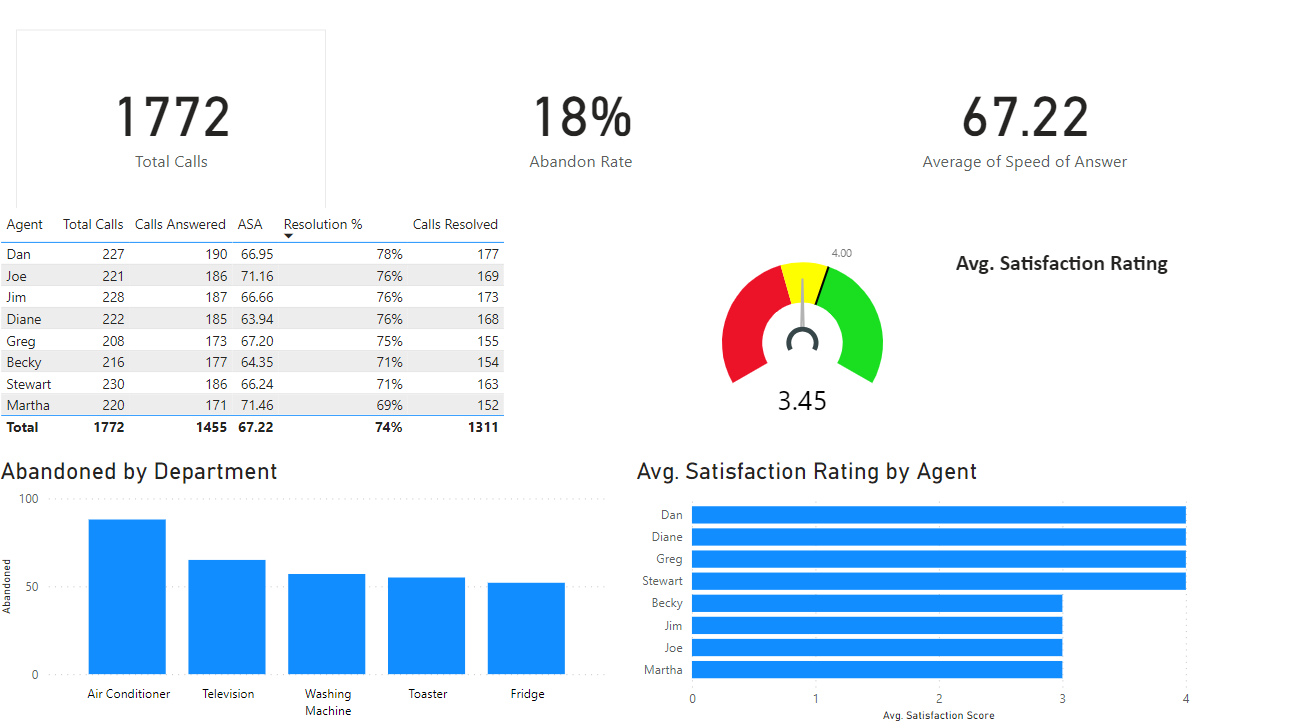

What the dashboard file says about the page in this screenshot:
{"tool":"powerbi","page":{"name":"Page 1","canvas":[1280,720],"ordinal":0},"visuals":[{"type":"card","fields":{"Values":["Data.Call Id"]},"box":[20.6,42.5,301.9,177],"z":0},{"type":"card","fields":{"Values":["Data.Abandoned divided by Count of Call Id"]},"box":[418.5,42.5,301.9,177],"z":1},{"type":"card","fields":{"Values":["Data.Speed of Answer"]},"box":[852.1,42.5,301.9,177],"z":2},{"type":"tableEx","fields":{"Values":["Data.Agent","Data.Call Id","Data.Answered","Data.Speed of Answer","Data.Resolved \"Y\" divided by Count of Call Id","Data.Resolved \"Y\""]},"box":[0,215.4,618.9,240.1],"z":3},{"type":"clusteredColumnChart","title":"Abandoned by Department","fields":{"Y":["Data.Abandoned"],"Category":["Data.Department"]},"box":[0,458.3,601,262.1],"z":4},{"type":"clusteredBarChart","title":"Avg. Satisfaction Rating by Agent","fields":{"Category":["Agent Satisfaction.Agent Name"],"Y":["Agent Satisfaction.Satisfaction Score"]},"box":[618.9,458.3,548.9,262.1],"z":5},{"type":"Tachometer1474636471549","fields":{"Y":["Data.Satisfaction rating"],"TargetValue":["Data.point_2"],"Range2StartValue":["Data.point_1"],"Range3StartValue":["Data.point_3"]},"box":[639.5,238.8,292.3,194.9],"z":6},{"type":"textbox","box":[930.4,251.1,271.7,52.1],"z":7}]}

Visuals, with their boxes in screenshot pixels (x1, y1, x2, y2), scaled from the page's 1280x720 canvas onto the 1306x722 screenshot:
card - Data.Call Id: 21:43:329:220
card - Data.Abandoned divided by Count of Call Id: 427:43:735:220
card - Data.Speed of Answer: 869:43:1177:220
tableEx - Data.Agent x Data.Call Id: 0:216:631:457
"Abandoned by Department" clusteredColumnChart: 0:460:613:721
"Avg. Satisfaction Rating by Agent" clusteredBarChart: 631:460:1192:721
Tachometer1474636471549 - Data.Satisfaction rating x Data.point_2: 652:239:951:435
textbox: 949:252:1227:304
